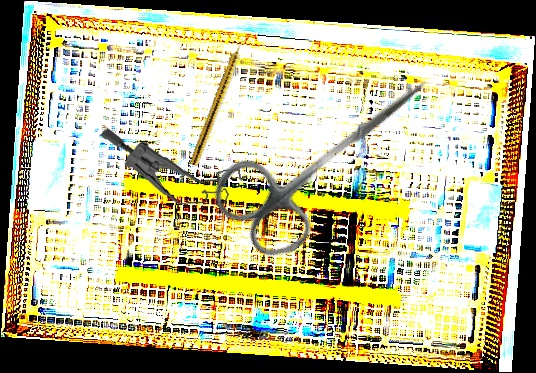Handpiece: (189, 36, 249, 168)
Iris Scissors: (203, 37, 456, 271)
Speculum: (100, 120, 250, 212)
